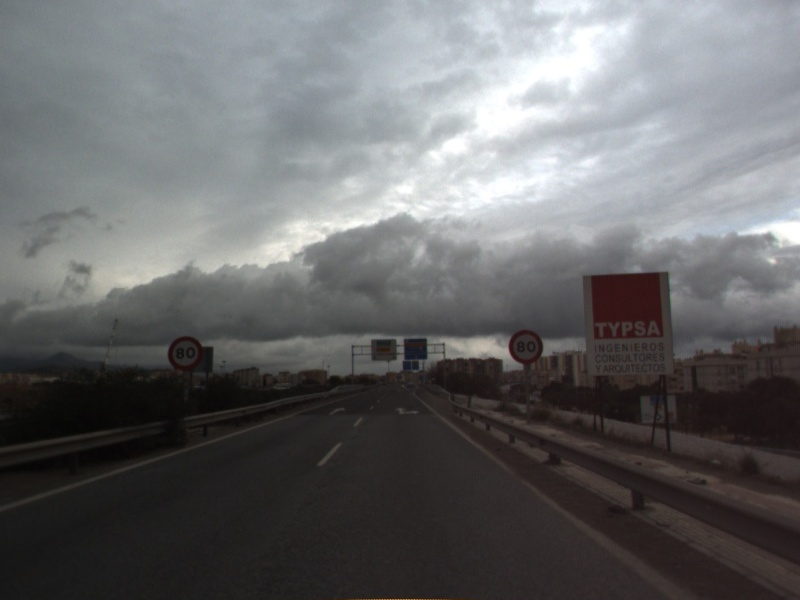STRAIGHT: (326, 405, 347, 417)
STRAIGHT_RIGHT: (392, 405, 422, 417)
